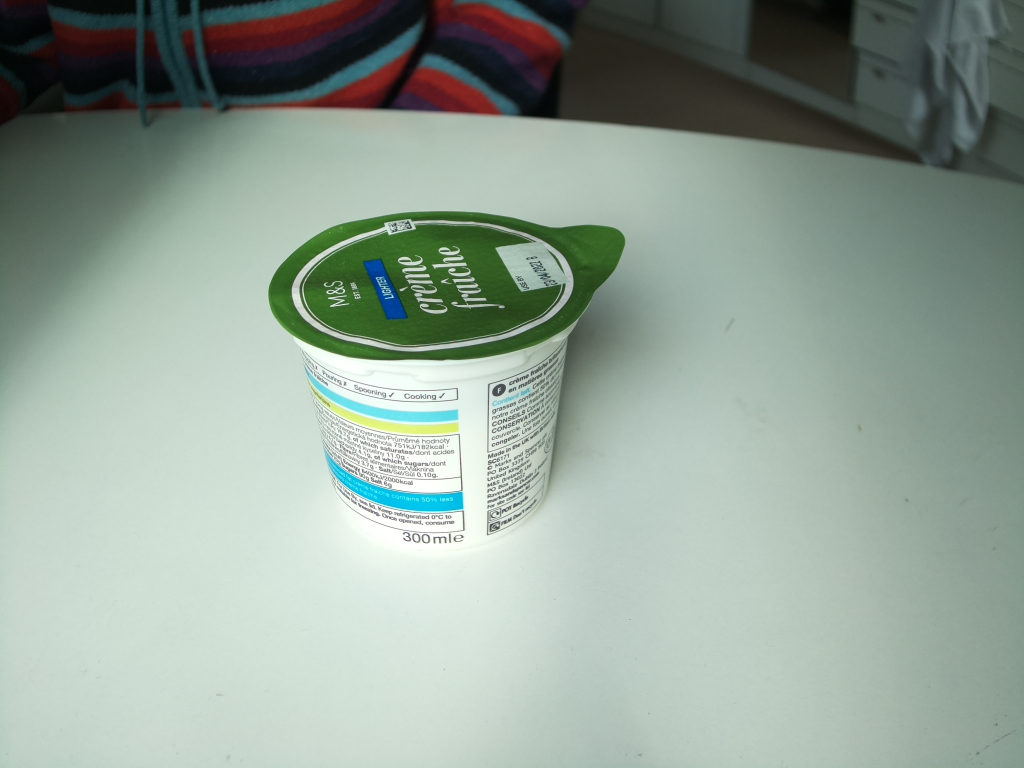cream: (266, 208, 631, 552)
